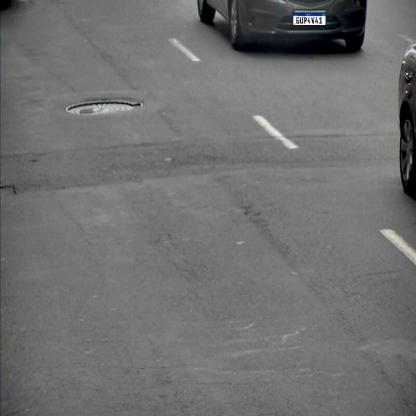PlacaM: (293, 12, 326, 26)
